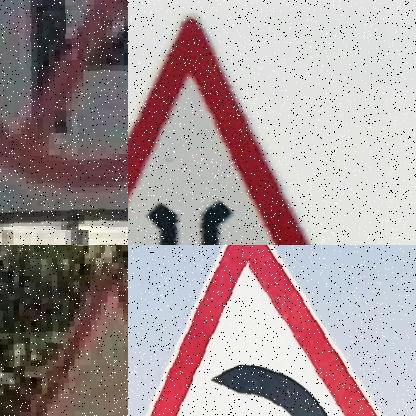Bridge Ahead: (128, 5, 315, 245)
Left bend: (153, 245, 378, 416)
Speed Breaker Ahead: (28, 253, 128, 416)
